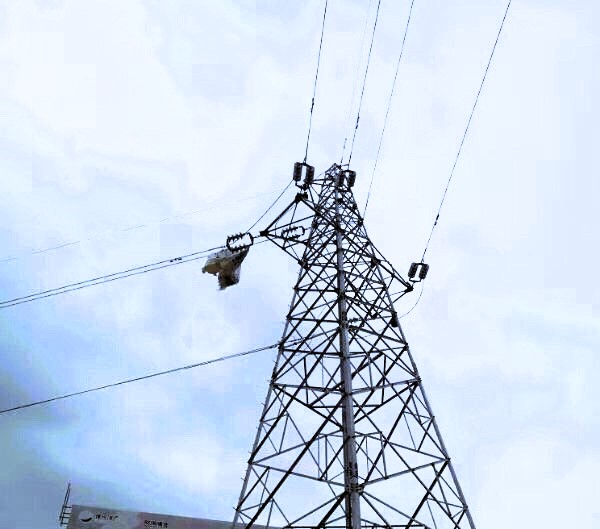wire foreign body: (195, 225, 261, 299)
